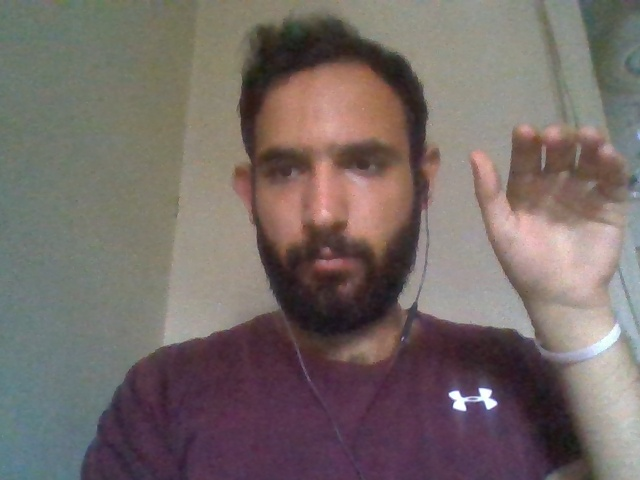Snake: (457, 99, 640, 480)
